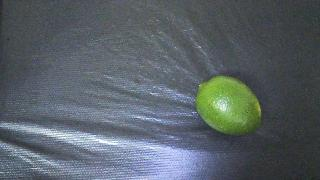LOCAL: (196, 76, 261, 135)
